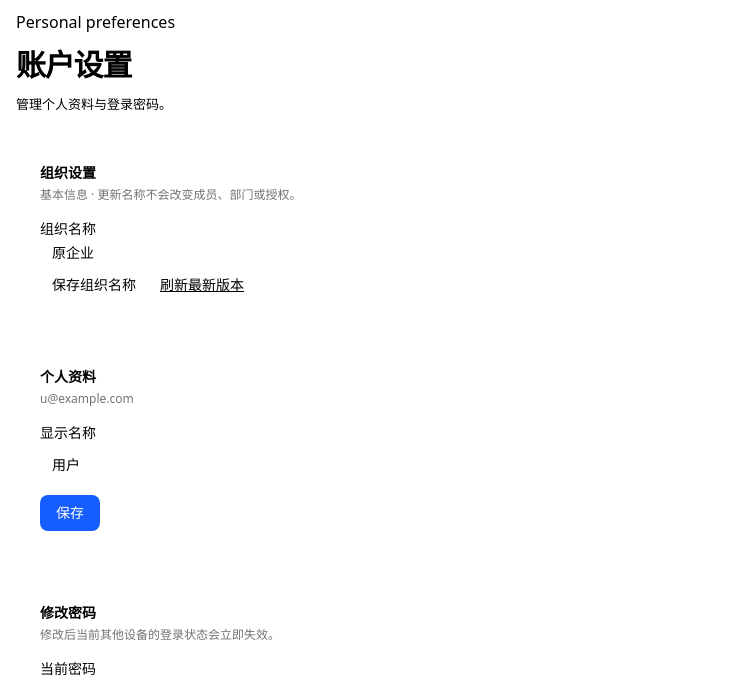
it: organization managers rename with version and refresh scope names
Replace the text in the field labelled "组织名称" with " 新企业 " at point(380, 252), box x1=40 y1=242 x2=720 y2=262
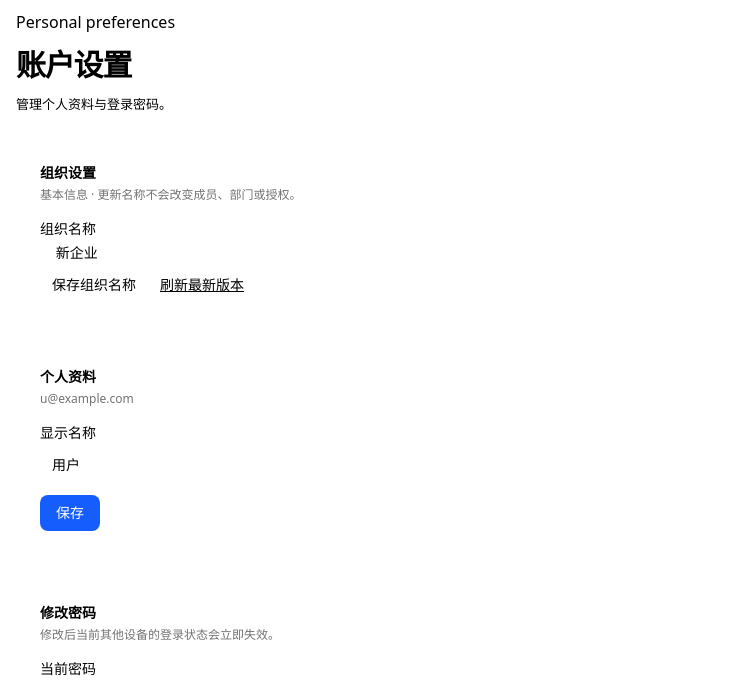
Click the button "保存组织名称" at point(94, 284), box x1=40 y1=274 x2=148 y2=294
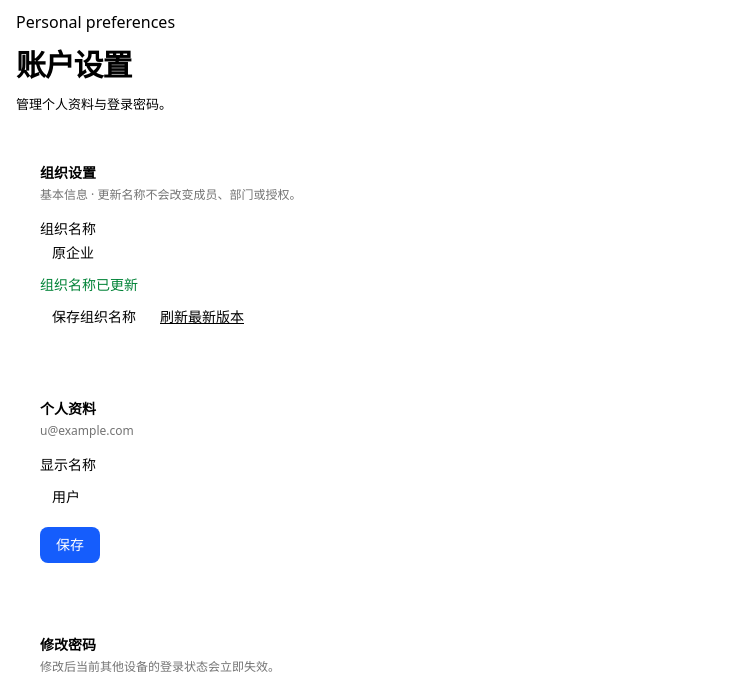
Expected: the text "组织名称已更新" is shown, x1=40 y1=274 x2=138 y2=294
